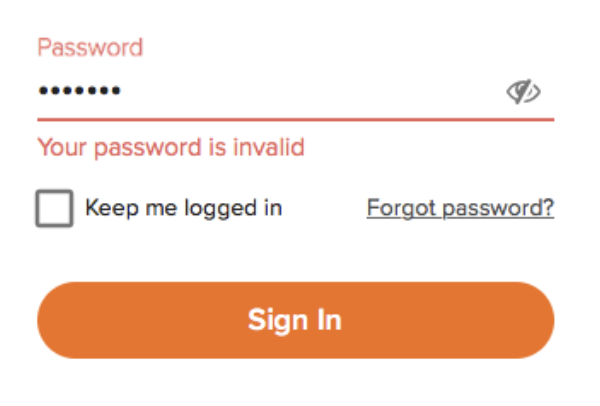error_field: (33, 71, 557, 125)
error_message: (37, 133, 307, 159), (36, 36, 146, 58)
